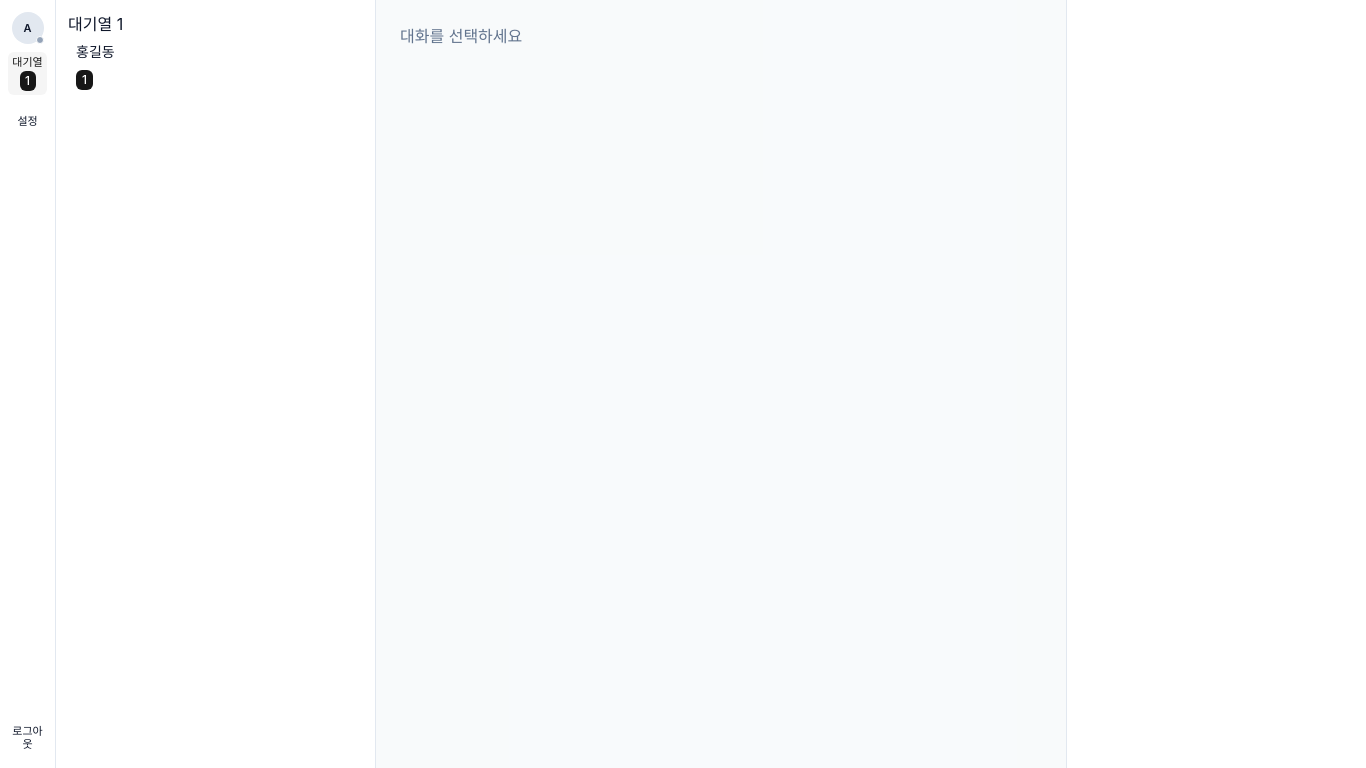
it: administrator adds a catalog label
Click the button "설정": (28, 121) [8,103,47,139]
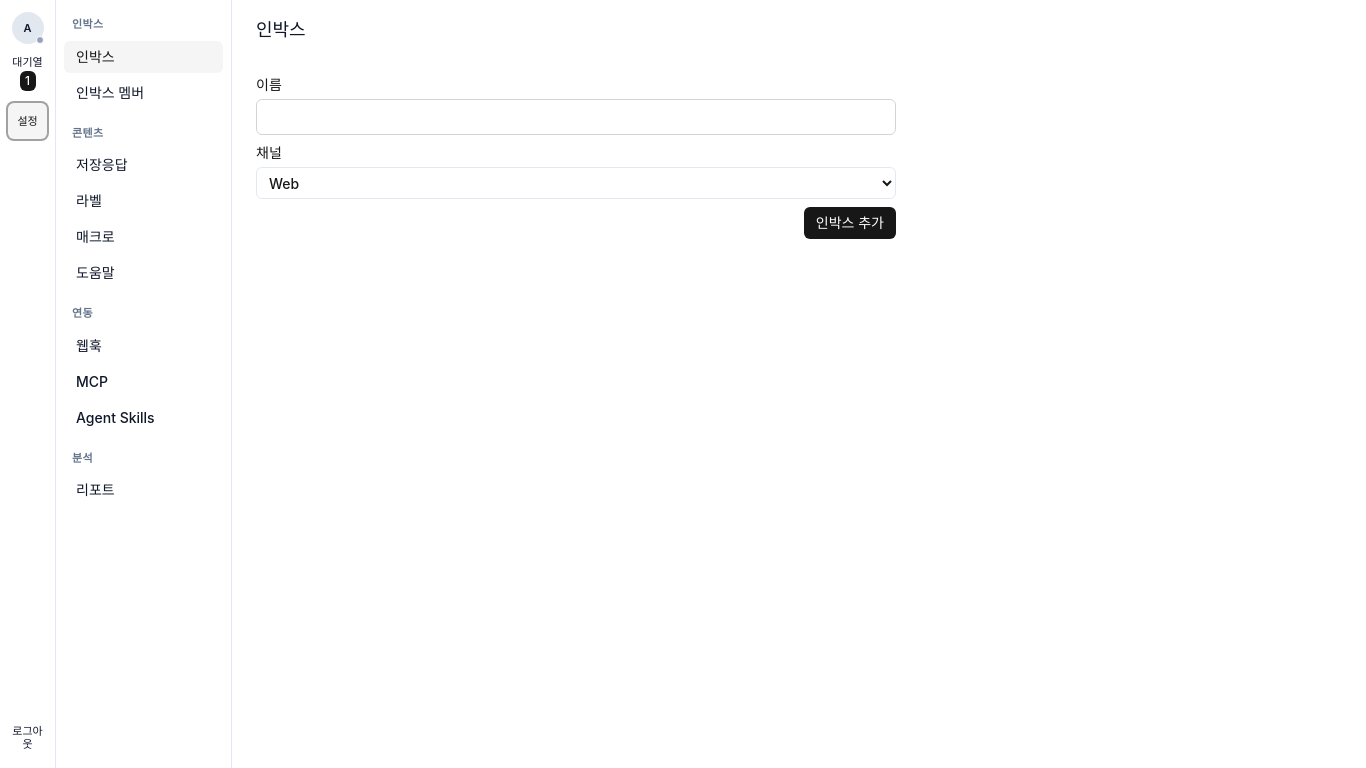
Click the button "라벨": (144, 201) [64,185,223,217]
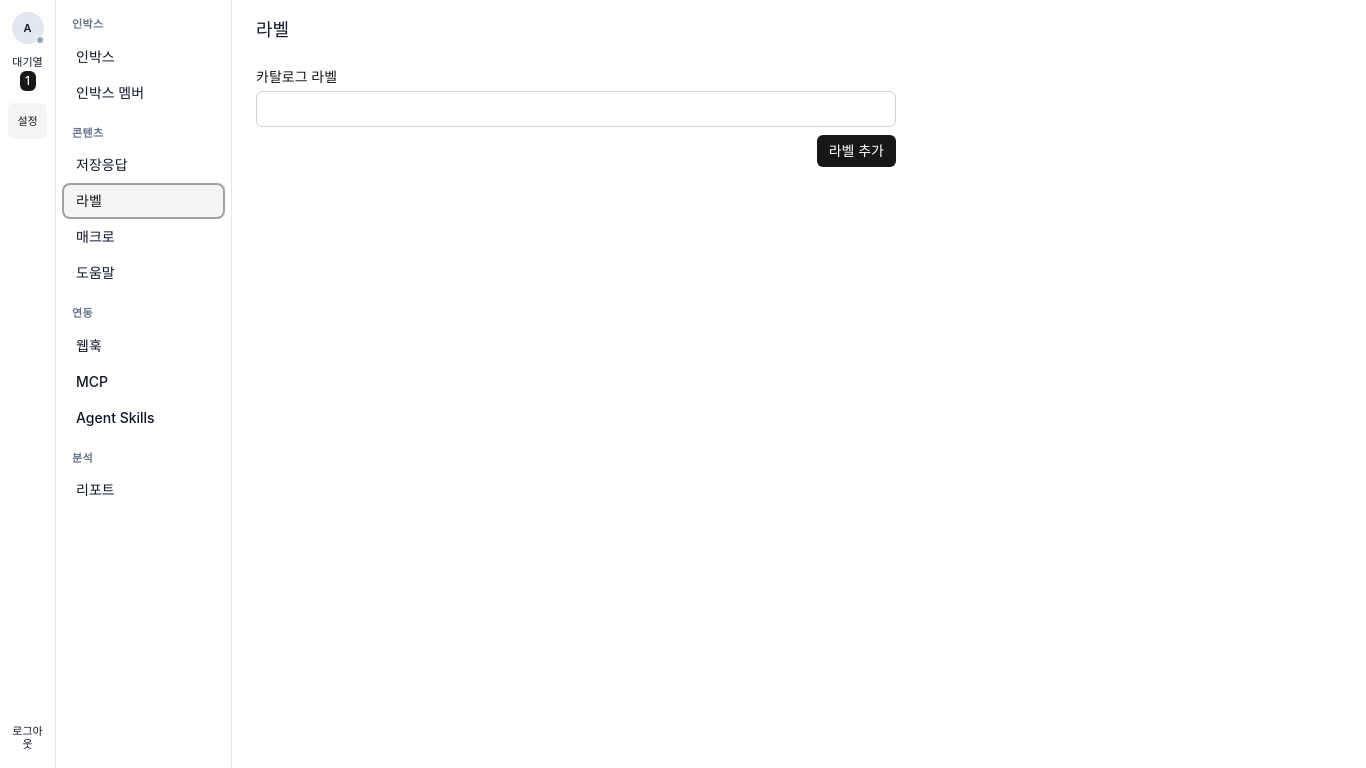
In the field labelled "카탈로그 라벨": (576, 109) [256,91,896,127], type "결제"
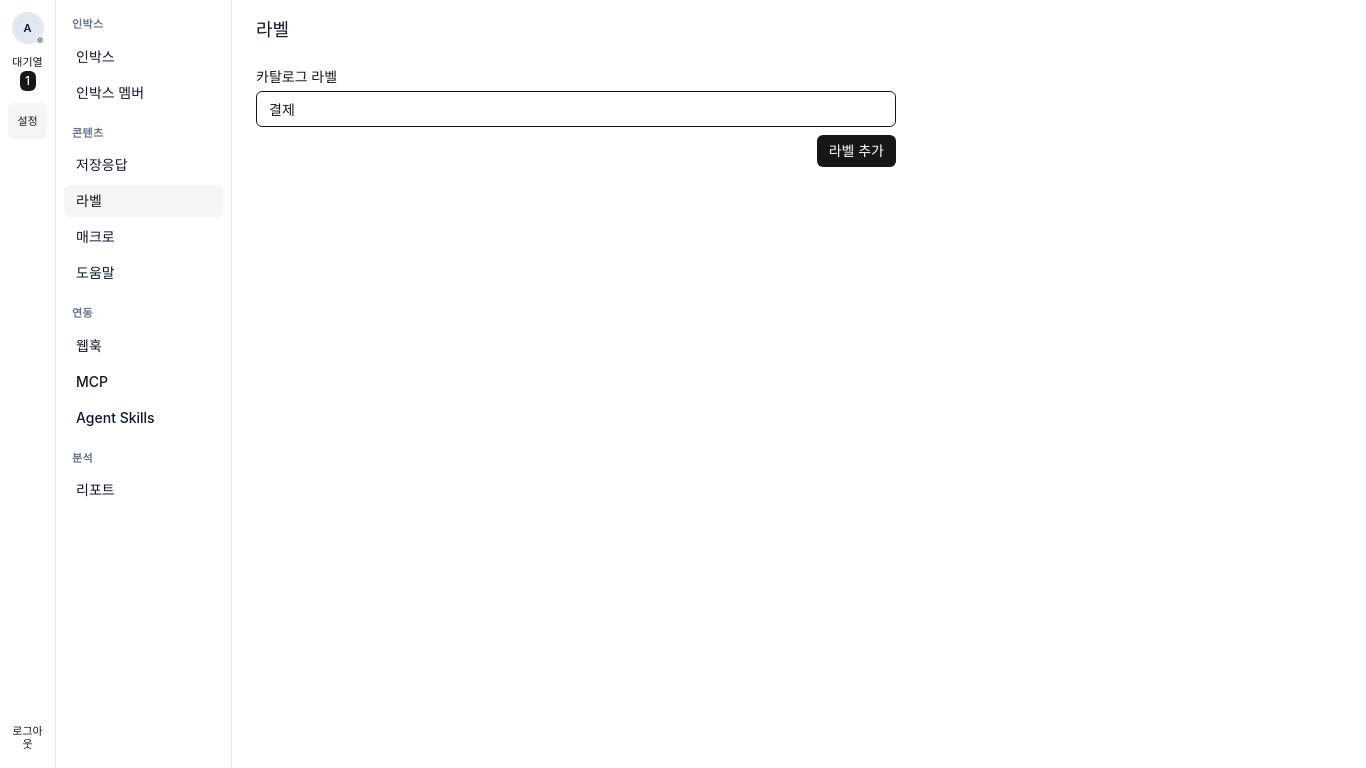
Click the button "라벨 추가": (856, 151) [817,135,896,167]
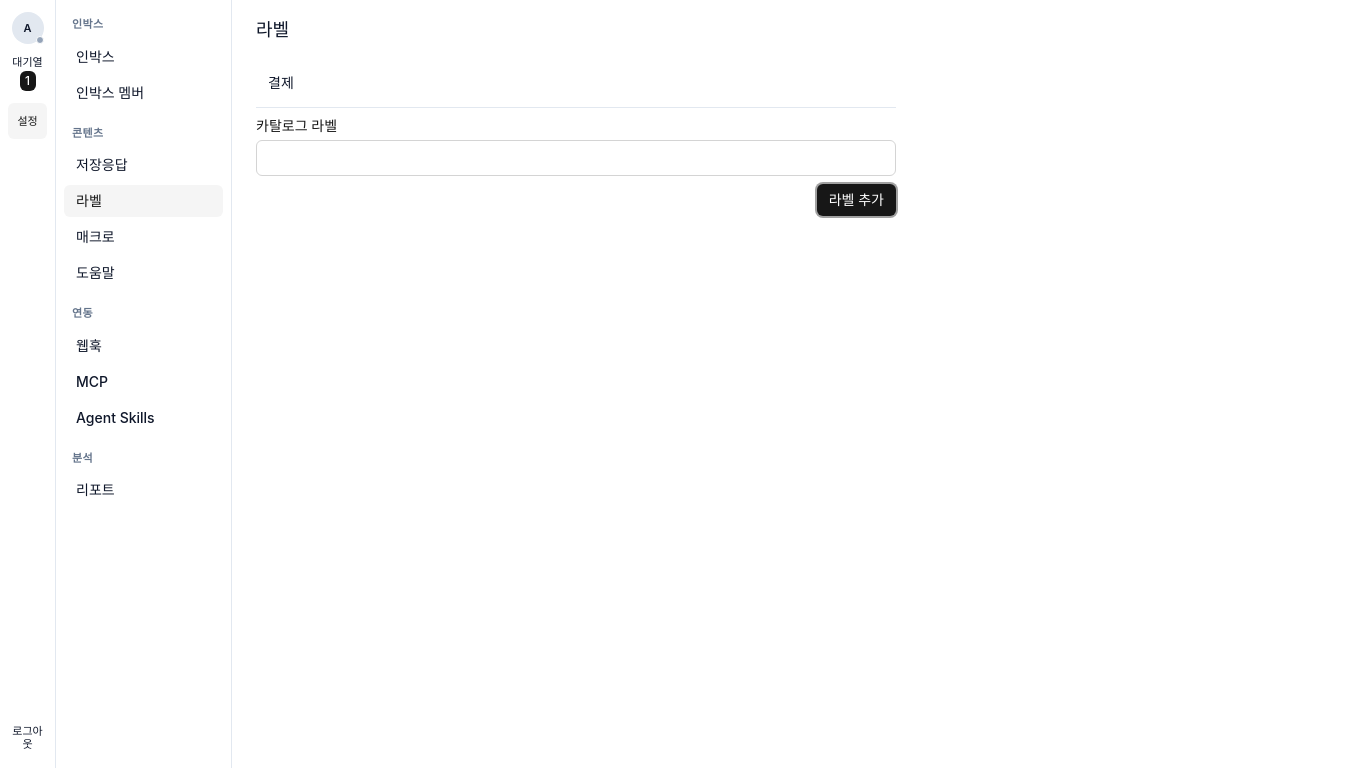
Result: the element "라벨" shows "결제" at [256,67,896,99]
